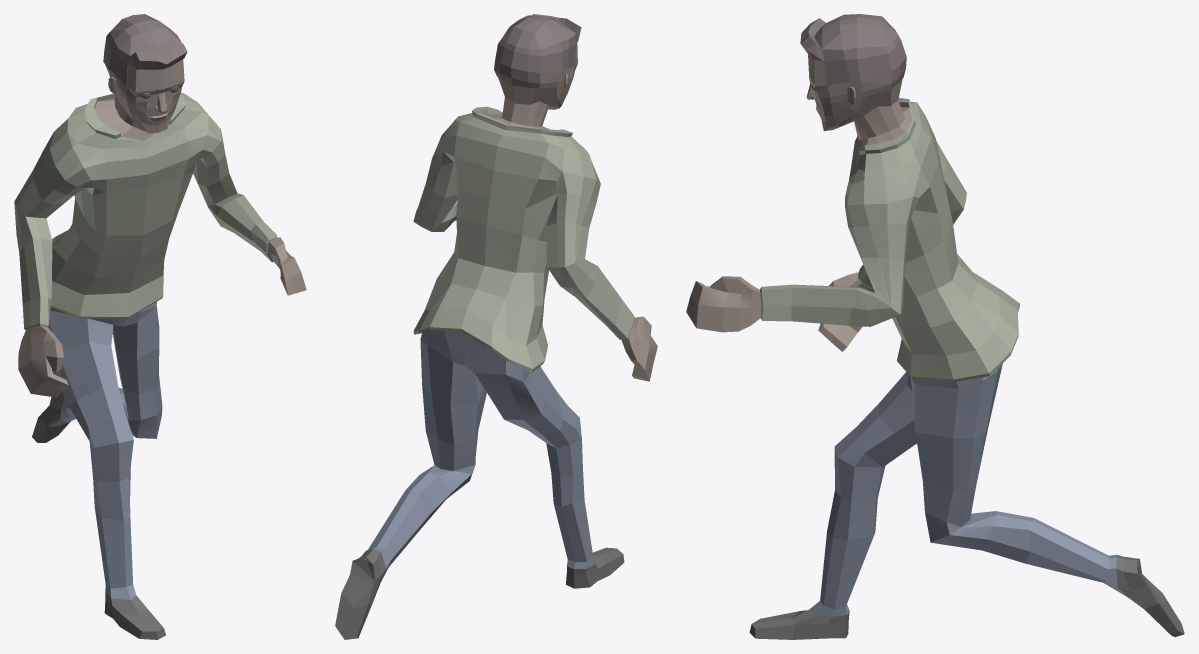
File: run_3.glb
3 views of the same model, side by side, from view 1: azimuth 30°, elevation 25°; view 2: azimuth 150°, elevation 25°; view 3: azimuth 270°, elevation 25° (orthographic). The views are drawn at different scales.
Visible parts, largest first — view 1: BaseHuman_baked; view 2: BaseHuman_baked; view 3: BaseHuman_baked.
Boxes of the visible parts, left/top/right/bottom form: BaseHuman_baked: left=14, top=14, right=306, bottom=639; BaseHuman_baked: left=335, top=14, right=657, bottom=639; BaseHuman_baked: left=686, top=14, right=1184, bottom=639.
Size of the model in its own units: 1.83 by 4.47 by 3.18.
